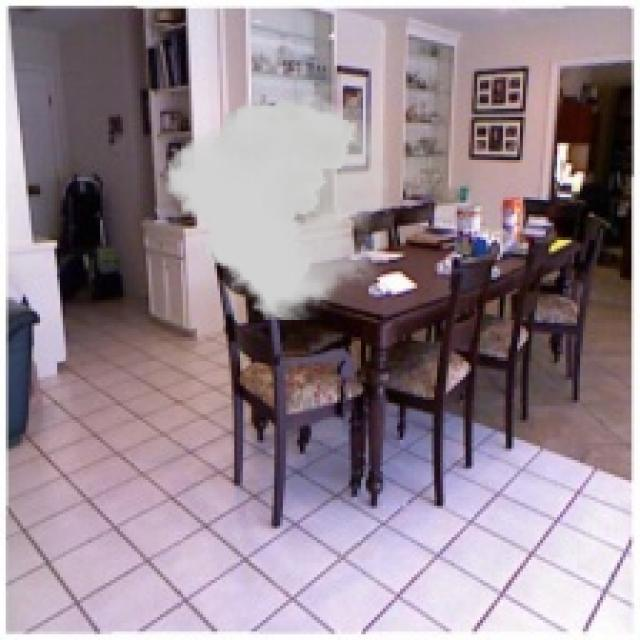smoke: (165, 91, 388, 320)
